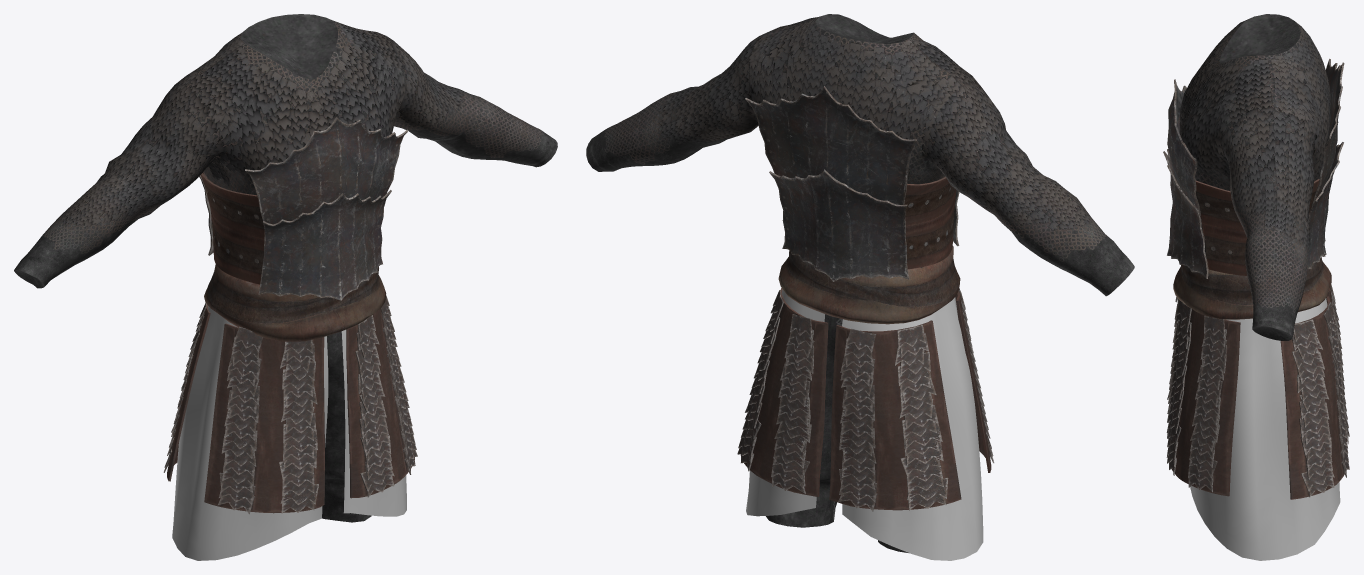
Rendered from sk_dg_uruk_chest_med_f.fbx.
The picture shows the model from 3 angles, left to right: view 1: azimuth 30°, elevation 25°; view 2: azimuth 150°, elevation 25°; view 3: azimuth 270°, elevation 25°; orthographic projection. The views are drawn at different scales.
Visible parts, largest first — view 1: sk_dg_uruk_chest_med_f.1, sk_dg_uruk_chest_med_f.skirt.1, sk_dg_uruk_chest_med_f.2, sk_dg_uruk_chest_med_f.skirt.0, sk_dg_uruk_chest_med_f.0; view 2: sk_dg_uruk_chest_med_f.1, sk_dg_uruk_chest_med_f.skirt.1, sk_dg_uruk_chest_med_f.2, sk_dg_uruk_chest_med_f.skirt.0, sk_dg_uruk_chest_med_f.0; view 3: sk_dg_uruk_chest_med_f.1, sk_dg_uruk_chest_med_f.skirt.1, sk_dg_uruk_chest_med_f.skirt.0, sk_dg_uruk_chest_med_f.2.
Boxes of the visible parts, left/top/right/bottom form: sk_dg_uruk_chest_med_f.1: left=14, top=14, right=557, bottom=341; sk_dg_uruk_chest_med_f.skirt.1: left=163, top=295, right=417, bottom=514; sk_dg_uruk_chest_med_f.2: left=199, top=117, right=408, bottom=300; sk_dg_uruk_chest_med_f.skirt.0: left=172, top=305, right=406, bottom=560; sk_dg_uruk_chest_med_f.0: left=322, top=331, right=371, bottom=522; sk_dg_uruk_chest_med_f.1: left=586, top=14, right=1134, bottom=324; sk_dg_uruk_chest_med_f.skirt.1: left=737, top=288, right=994, bottom=511; sk_dg_uruk_chest_med_f.2: left=745, top=86, right=959, bottom=281; sk_dg_uruk_chest_med_f.skirt.0: left=746, top=289, right=983, bottom=560; sk_dg_uruk_chest_med_f.0: left=766, top=314, right=908, bottom=552; sk_dg_uruk_chest_med_f.1: left=1173, top=14, right=1331, bottom=340; sk_dg_uruk_chest_med_f.skirt.1: left=1166, top=284, right=1349, bottom=499; sk_dg_uruk_chest_med_f.skirt.0: left=1177, top=298, right=1340, bottom=560; sk_dg_uruk_chest_med_f.2: left=1163, top=58, right=1344, bottom=278.
Bounding box in the file's own units: 1.35 × 0.4243 × 1.2.
